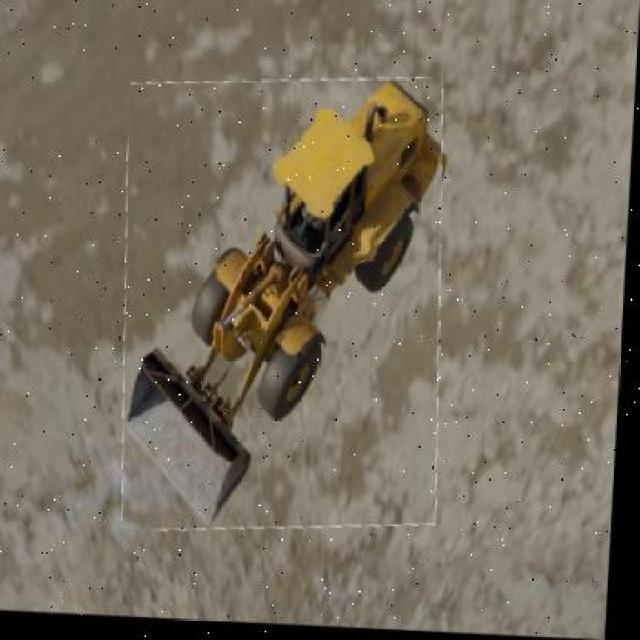buldozerpayloadergrader: (123, 79, 437, 530)
